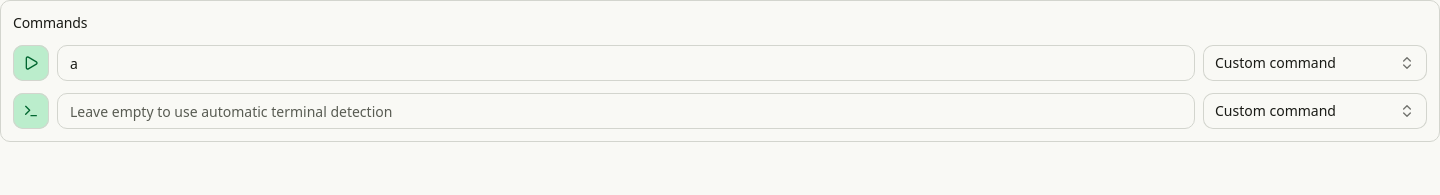
Test: CommandsSettingsForm › shows error when play command is emptied
Clear the 1st field at (626, 63), box [57, 45, 1195, 81]
Wait 500 ms
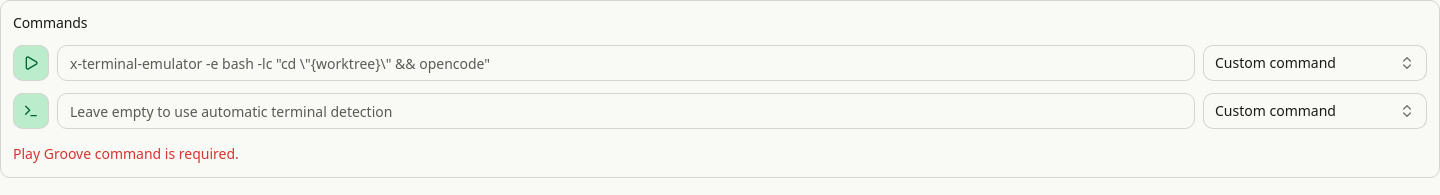
Expected: the text "Play Groove command is required." is shown, [13, 144, 239, 164]
